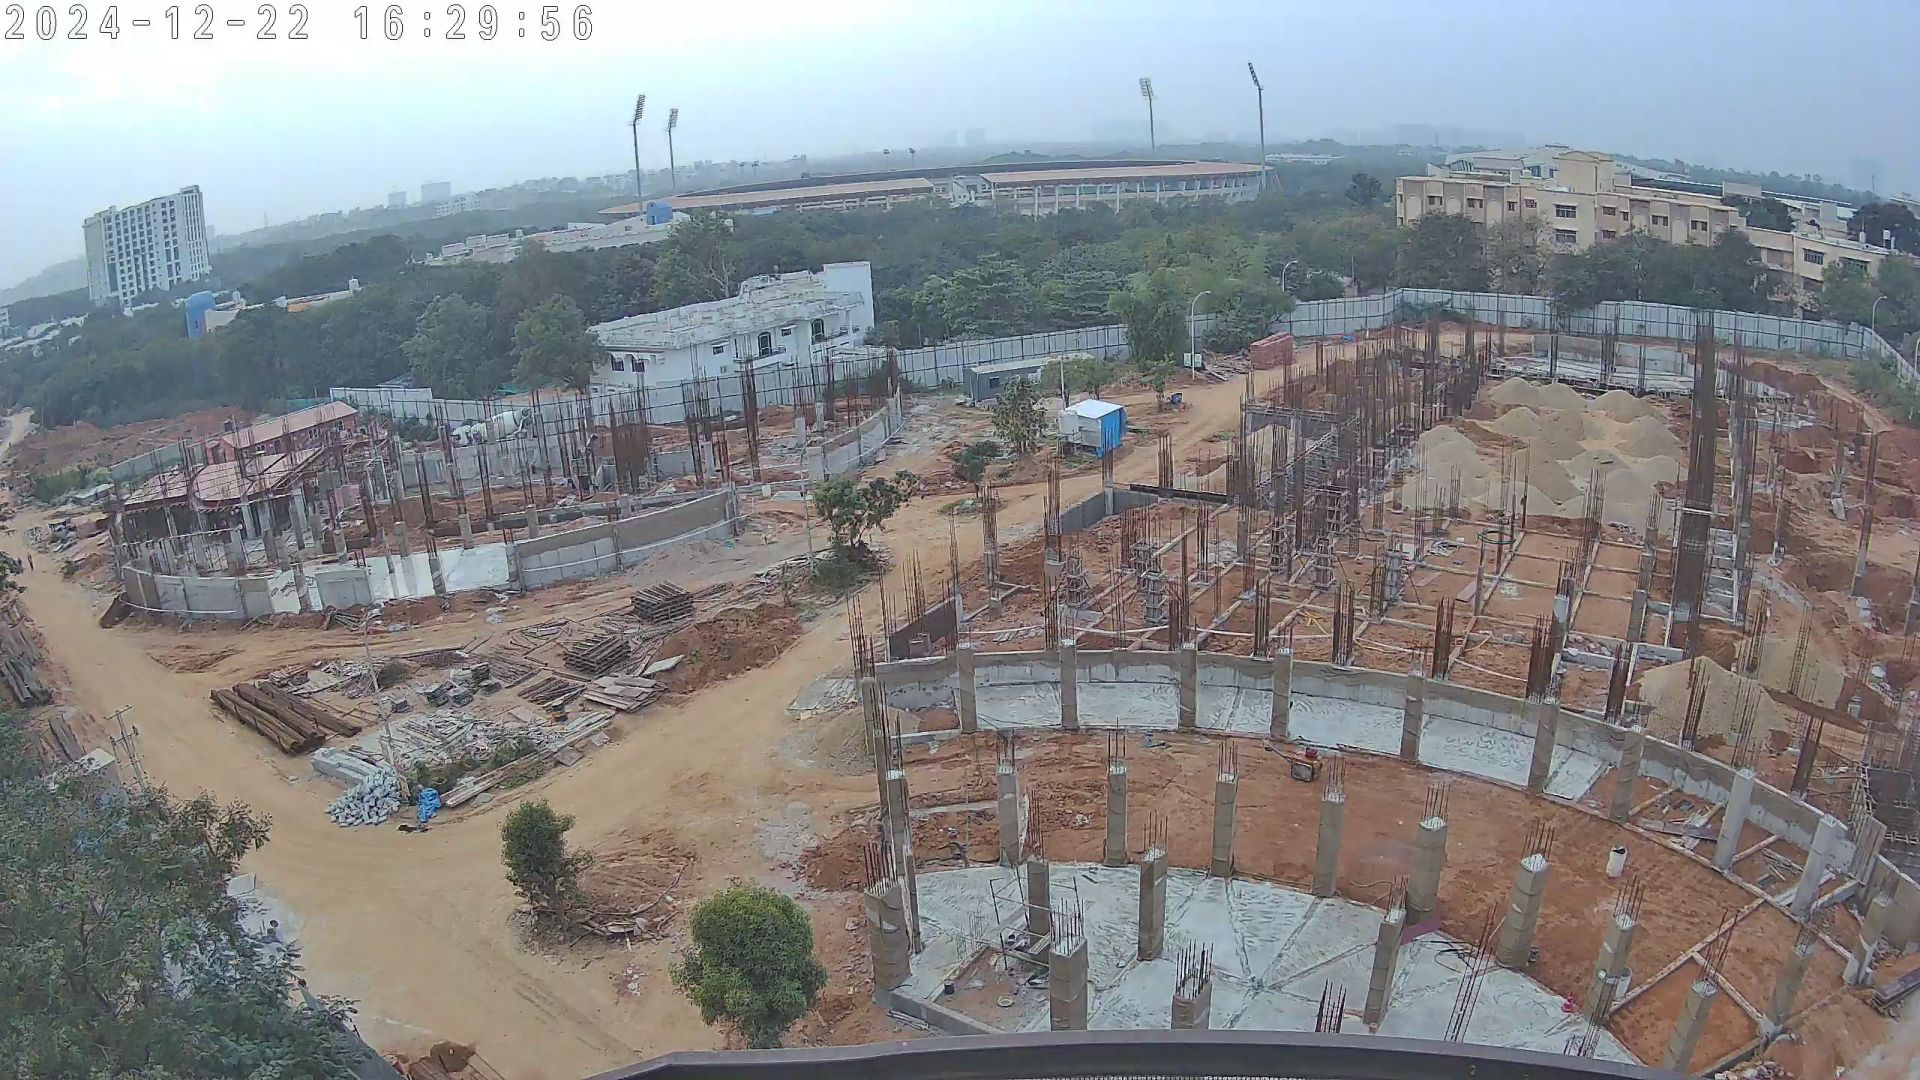truck: (449, 406, 533, 447)
worker: (25, 551, 38, 572)
